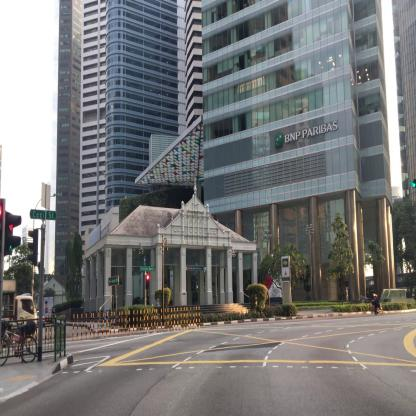red_traffic_light: (145, 274, 149, 289)
